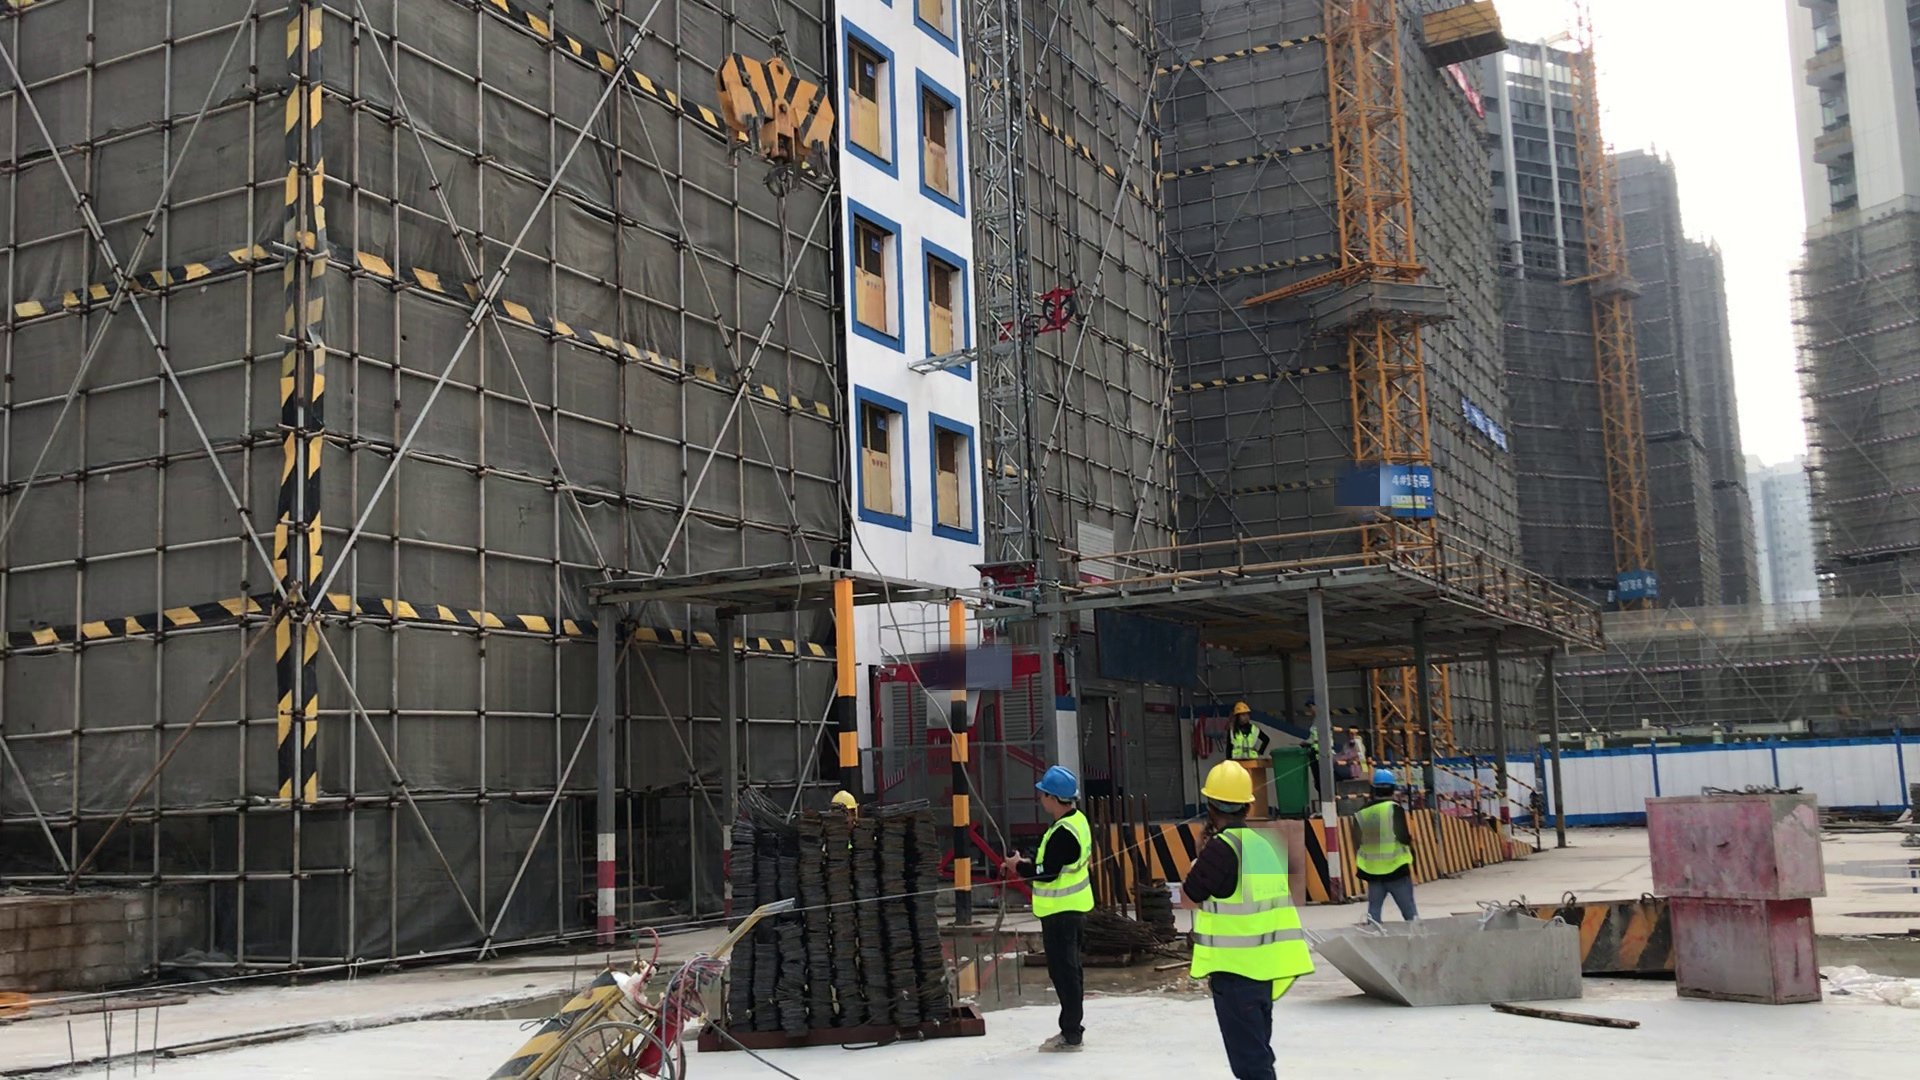fence: (1358, 718, 1613, 866)
helmet: (1198, 759, 1258, 805), (1033, 764, 1086, 804), (830, 782, 858, 818), (1370, 769, 1399, 789), (1230, 697, 1253, 717)
hook: (695, 51, 865, 195)
hopper: (1317, 906, 1596, 1003), (1503, 874, 1691, 984)
person: (1183, 757, 1316, 1080), (1007, 761, 1098, 1065), (1346, 768, 1426, 924), (1224, 697, 1277, 764), (1302, 696, 1338, 774), (1340, 722, 1369, 780)
slogan: (1454, 399, 1511, 470)
vest: (1194, 829, 1312, 990), (1034, 811, 1093, 919), (1355, 800, 1412, 874), (1228, 723, 1261, 759), (1308, 720, 1325, 765)
